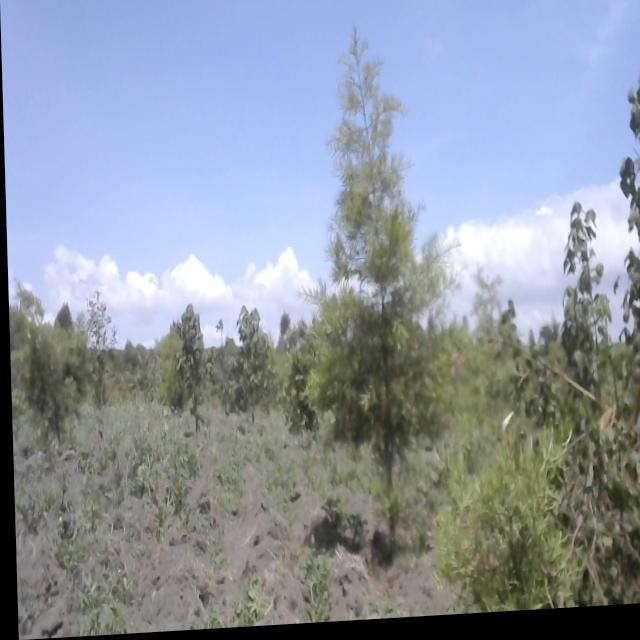Podocarpus falcatus: (433, 448, 580, 620), (7, 253, 87, 442)
cedrus: (285, 11, 469, 584)
other: (529, 86, 640, 566), (220, 298, 271, 407), (166, 294, 209, 421)
